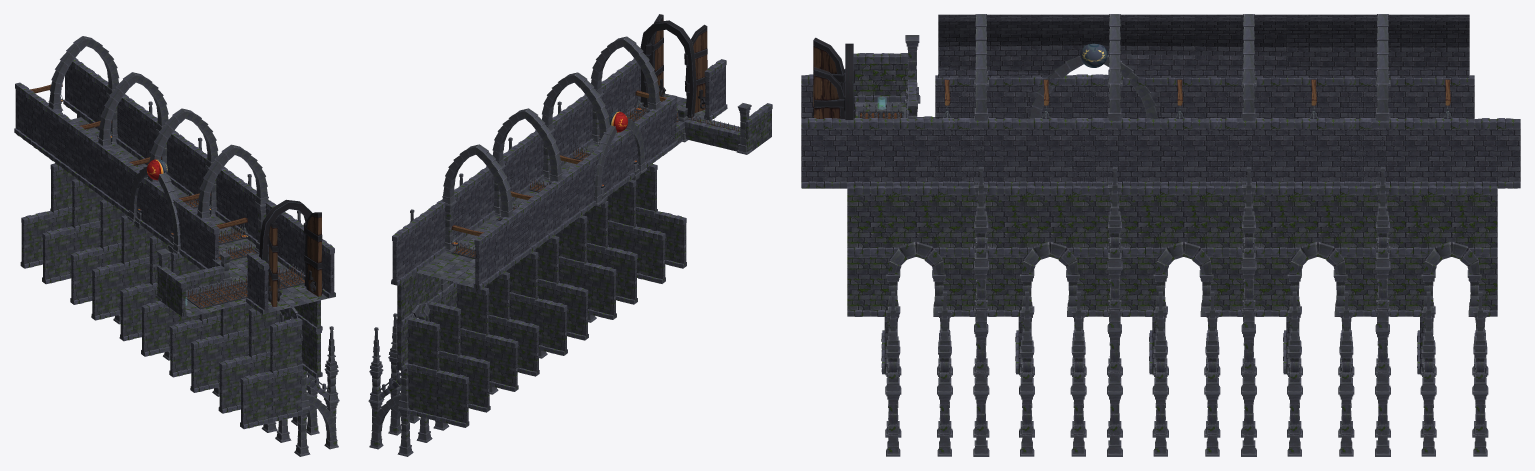
The model's file is PassagewayEnvironment_Prefab (1).gltf.
3 renders of one model, left to right at view 1: azimuth 30°, elevation 25°; view 2: azimuth 150°, elevation 25°; view 3: azimuth 270°, elevation 25°, orthographic. The views are drawn at different scales.
Visible parts, largest first — view 1: P_MOD_Wall_01_M_straight_large (×50), MOD_Gateway_Door_01_large_door_R, MOD_Gateway_Door_01_large, MOD_Gateway_Door_01_large_door_L, P_MOD_Wall_01_E_straight_med, P_MOD_Wall_01_M_straight_large_half_R, Floor (1); view 2: P_MOD_Wall_01_M_straight_large (×50), MOD_Gateway_Door_01_large, MOD_Gateway_Door_01_large_door_L, MOD_Gateway_Door_01_large_door_R, Floor (1), P_MOD_Wall_01_M_straight_large_half_R, P_MOD_Wall_01_E_straight_med; view 3: P_MOD_Wall_01_M_straight_large (×45), P_MOD_Wall_01_M_straight_large_half_R (×28), Plane (1), Plane (2), Plane (3), P_MOD_Gateway_Arc_01 (×5), P_MOD_Wall_01_E_straight_med, MOD_Gateway_Door_01_large_door_R, MOD_Gateway_Door_01_large_door_L, MOD_Gateway_Door_01_large.
Part boxes in pixels (box(x1,y1,x2,y2)): P_MOD_Wall_01_M_straight_large (×50): box(15, 65, 334, 428); MOD_Gateway_Door_01_large_door_R: box(304, 212, 323, 296); MOD_Gateway_Door_01_large: box(259, 199, 312, 291); MOD_Gateway_Door_01_large_door_L: box(268, 222, 281, 306); P_MOD_Wall_01_E_straight_med: box(166, 278, 185, 316); P_MOD_Wall_01_M_straight_large_half_R: box(309, 329, 320, 377); Floor (1): box(280, 288, 320, 307); P_MOD_Wall_01_M_straight_large (×50): box(392, 65, 725, 426); MOD_Gateway_Door_01_large: box(640, 20, 696, 118); MOD_Gateway_Door_01_large_door_L: box(685, 24, 707, 112); MOD_Gateway_Door_01_large_door_R: box(649, 14, 665, 96); Floor (1): box(423, 262, 468, 281); P_MOD_Wall_01_M_straight_large_half_R: box(397, 324, 407, 370); P_MOD_Wall_01_E_straight_med: box(756, 109, 771, 148); P_MOD_Wall_01_M_straight_large (×45): box(801, 85, 1520, 248); P_MOD_Wall_01_M_straight_large_half_R (×28): box(847, 194, 1497, 310); Plane (1): box(1285, 14, 1469, 85); Plane (2): box(1103, 14, 1286, 85); Plane (3): box(937, 14, 1103, 85); P_MOD_Gateway_Arc_01 (×5): box(888, 242, 1479, 274); P_MOD_Wall_01_E_straight_med: box(853, 63, 896, 95); MOD_Gateway_Door_01_large_door_R: box(814, 67, 845, 118); MOD_Gateway_Door_01_large_door_L: box(813, 37, 845, 117); MOD_Gateway_Door_01_large: box(844, 43, 855, 119).
Bounding box in the file's own units: 23.38 × 38.08 × 62.67.
Materials: 11 (10 with a texture image).
